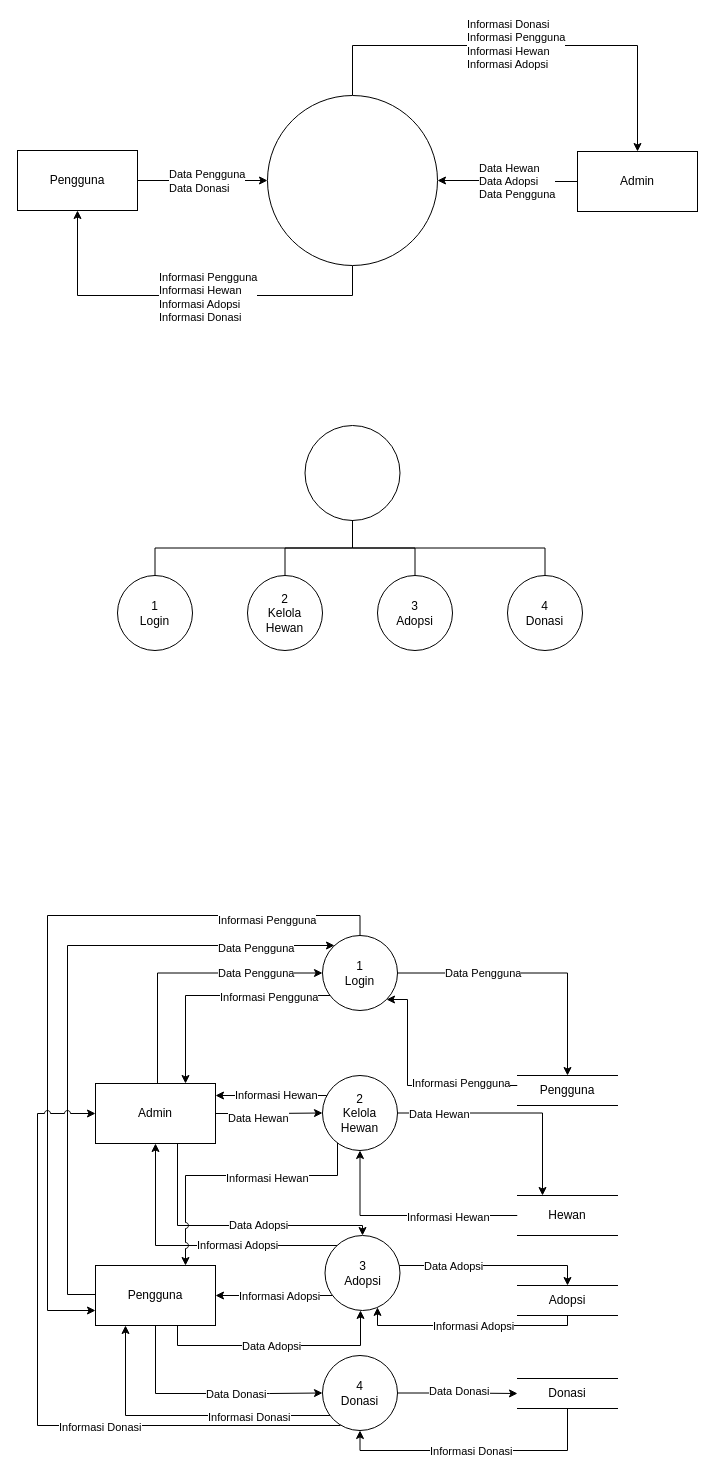
Some shapes in this 715 by 1476 pixel diagram are drawn without their labels. The centre of each missing label's shape, as x and y in pixels:
"0 SISTEM ADOPSI" goes at point (352, 472).
"SISTEM ADOPSI" goes at point (352, 180).
